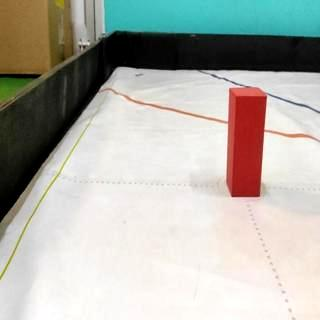redbox: (226, 86, 266, 198)
